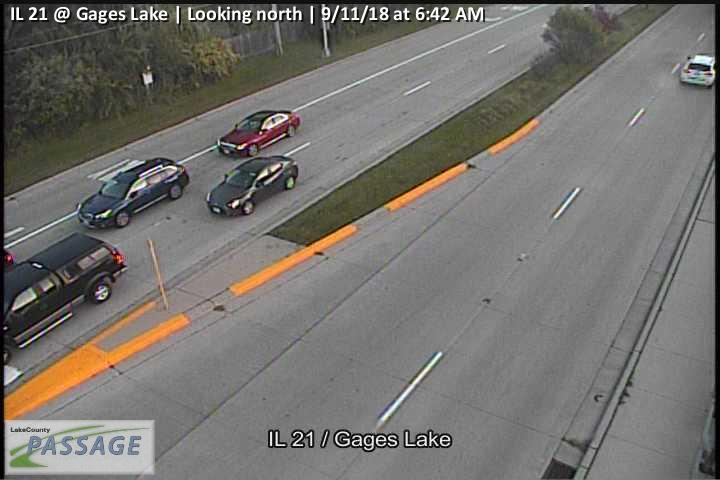SUV: (1, 231, 127, 366), (75, 157, 191, 228)
Sedan: (206, 156, 298, 217), (213, 109, 300, 156), (678, 52, 718, 86)
